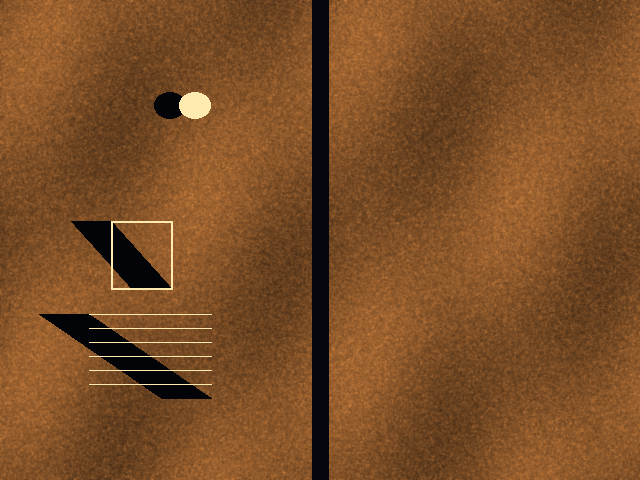Bottle: (179, 92, 210, 118)
Fishing Net: (89, 314, 211, 398)
Plastic Debris: (111, 221, 172, 289)
